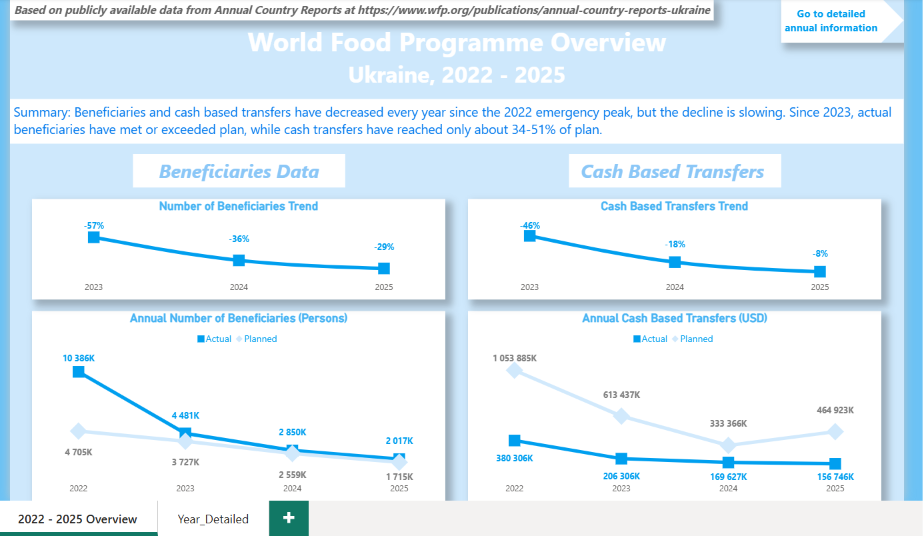

This screenshot's page, from the dashboard's own definition file:
{"tool":"powerbi","page":{"name":"2022 - 2025 Overview","canvas":[1280,720],"ordinal":0},"visuals":[{"type":"lineChart","title":"Annual Cash Based Transfers (USD)","fields":{"Category":["DimYear.Year"],"Series":["2022-2025.Planned_Actual"],"Y2":["2022-2025.Cash_Based_Transfers"]},"box":[656,448,592,272],"z":1000},{"type":"textbox","box":[0,0,1008,32],"z":2000},{"type":"lineChart","title":"Annual Number of Beneficiaries (Persons)","fields":{"Category":["DimYear.Year"],"Series":["2022-2025.Planned_Actual"],"Y2":["2022-2025.Number_of_Beneficiaries"]},"box":[32,448,592,272],"z":3000},{"type":"actionButton","box":[1104,0,176,64],"z":4000},{"type":"lineChart","title":"Number of Beneficiaries Trend","fields":{"Category":["DimYear.Year"],"Series":["2022-2025.Planned_Actual"],"Y2":["2022-2025.Actual YoY %"]},"box":[32,288,592,144],"z":5000},{"type":"lineChart","title":"Cash Based Transfers Trend","fields":{"Category":["DimYear.Year"],"Series":["2022-2025.Planned_Actual"],"Y2":["2022-2025.Actual YoY %"]},"box":[656,288,592,144],"z":6000},{"type":"textbox","box":[176,224,304,48],"z":7000},{"type":"textbox","box":[800,224,304,48],"z":8000},{"type":"textbox","box":[176,32,928,112],"z":9000},{"type":"textbox","box":[0,144,1280,64],"z":9001}]}

Visuals, with their boxes on the page's 1280x720 design canvas (x1, y1, x2, y2). These are canvas units, not pixel positions in the 923x536 screenshot, which may show the page scaled, cropped or inside an application window:
"Annual Cash Based Transfers (USD)" lineChart: pyautogui.locateOnScreen(656, 448, 1248, 720)
textbox: pyautogui.locateOnScreen(0, 0, 1008, 32)
"Annual Number of Beneficiaries (Persons)" lineChart: pyautogui.locateOnScreen(32, 448, 624, 720)
actionButton: pyautogui.locateOnScreen(1104, 0, 1280, 64)
"Number of Beneficiaries Trend" lineChart: pyautogui.locateOnScreen(32, 288, 624, 432)
"Cash Based Transfers Trend" lineChart: pyautogui.locateOnScreen(656, 288, 1248, 432)
textbox: pyautogui.locateOnScreen(176, 224, 480, 272)
textbox: pyautogui.locateOnScreen(800, 224, 1104, 272)
textbox: pyautogui.locateOnScreen(176, 32, 1104, 144)
textbox: pyautogui.locateOnScreen(0, 144, 1280, 208)
